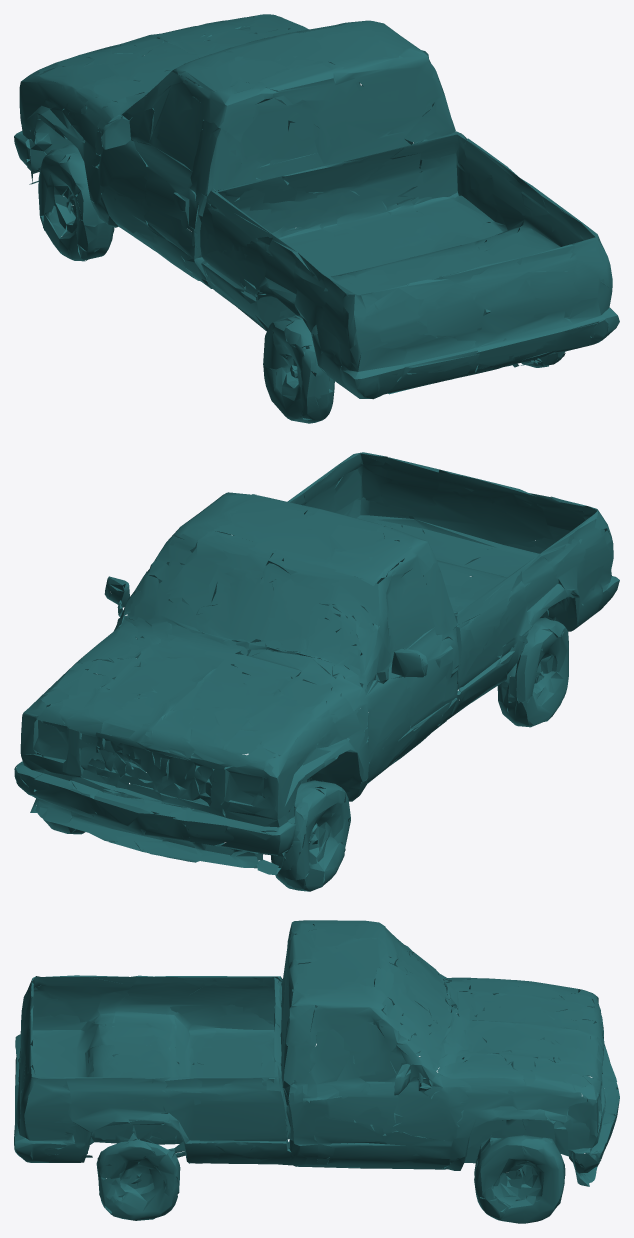
3 renders of one model, top to bottom at view 1: azimuth 30°, elevation 25°; view 2: azimuth 150°, elevation 25°; view 3: azimuth 270°, elevation 25°, orthographic. The views are drawn at different scales.
Visible parts, largest first — view 1: static_pickup • Material_0; view 2: static_pickup • Material_0; view 3: static_pickup • Material_0.
Boxes of the visible parts, <box> form: static_pickup • Material_0: <box>14,14,619,423</box>; static_pickup • Material_0: <box>14,452,619,891</box>; static_pickup • Material_0: <box>14,920,619,1223</box>.
Size of the model in its own units: 2.86 by 2.12 by 5.4.
1 material, 1 textured.
